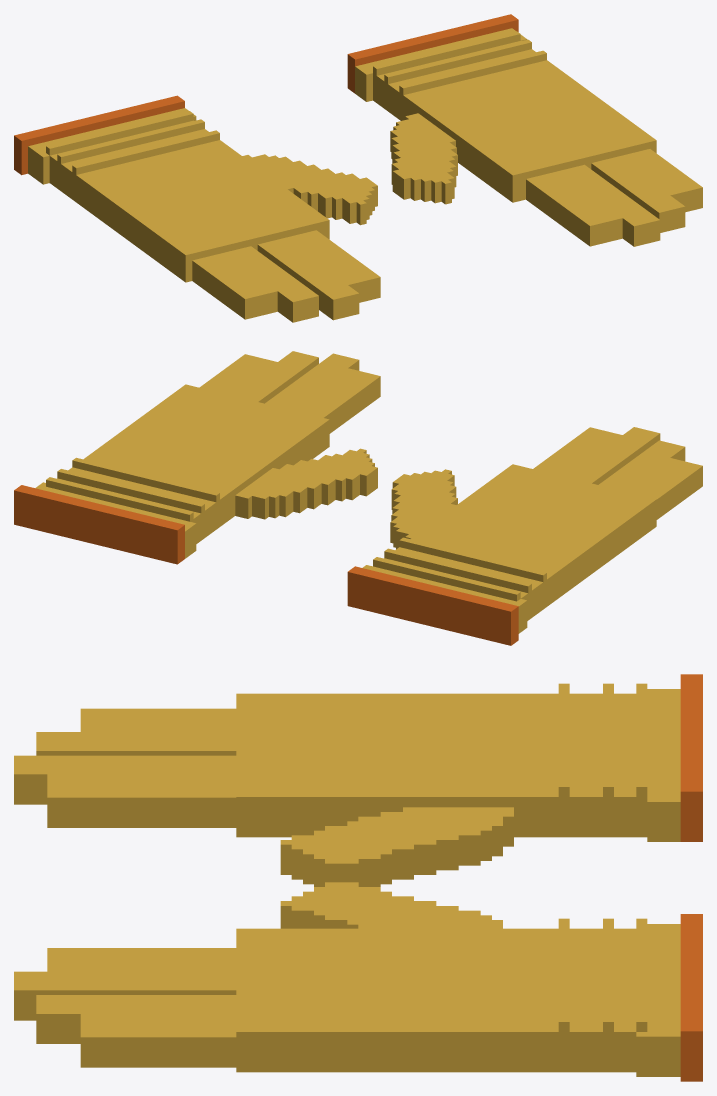
Rendered from gloves_cut_resistant.glb.
3 renders of one model, top to bottom at view 1: azimuth 30°, elevation 25°; view 2: azimuth 150°, elevation 25°; view 3: azimuth 270°, elevation 25°, orthographic. The views are drawn at different scales.
Visible parts, largest first — view 1: gloves_cut_resistant:compound; view 2: gloves_cut_resistant:compound; view 3: gloves_cut_resistant:compound.
Boxes of the visible parts, box(x1,y1,x2,y2) form: gloves_cut_resistant:compound: box(14, 14, 702, 322); gloves_cut_resistant:compound: box(14, 351, 702, 645); gloves_cut_resistant:compound: box(14, 674, 702, 1081).
Bounding box in the file's own units: 0.304 × 0.02 × 0.248.
